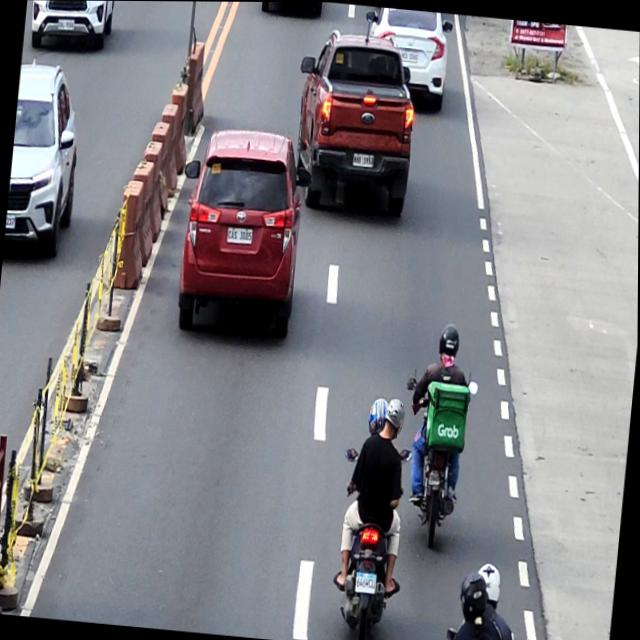Car: (169, 122, 315, 339), (287, 24, 422, 217), (4, 57, 86, 258), (358, 5, 453, 109), (28, 0, 116, 54)
License-Plate: (354, 570, 378, 593), (226, 225, 253, 243), (352, 151, 374, 167), (428, 467, 443, 487), (399, 48, 418, 62), (56, 17, 75, 30), (6, 214, 17, 230)
Motorcycle: (326, 441, 412, 640), (392, 366, 479, 550)
